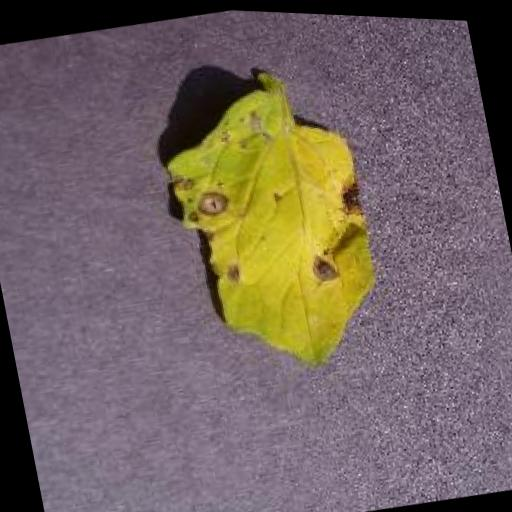Septoria: (149, 65, 400, 393)
